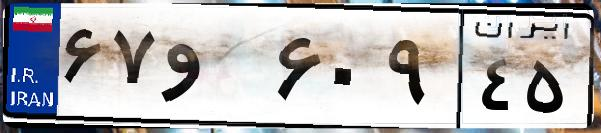0: (330, 28, 385, 110)
4: (475, 38, 525, 113)
5: (525, 38, 570, 115)
6: (270, 28, 330, 110), (57, 26, 110, 100)
7: (110, 28, 158, 98)
9: (385, 28, 445, 110)
و: (158, 20, 270, 120)
